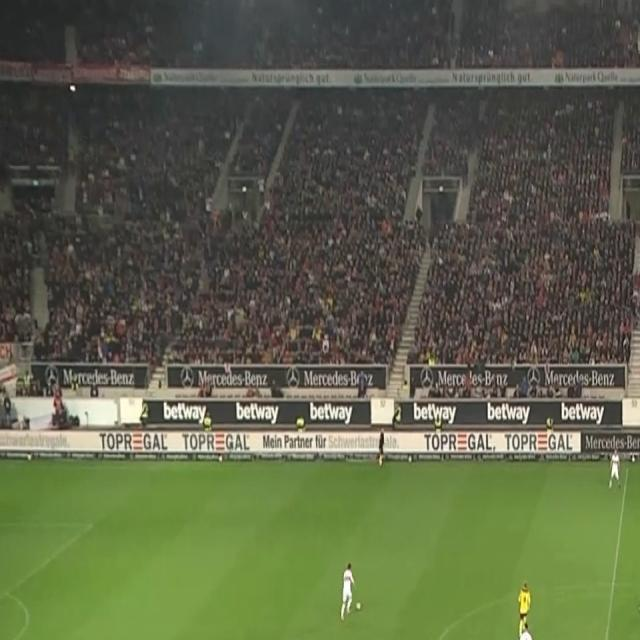ball: (356, 601, 361, 612)
